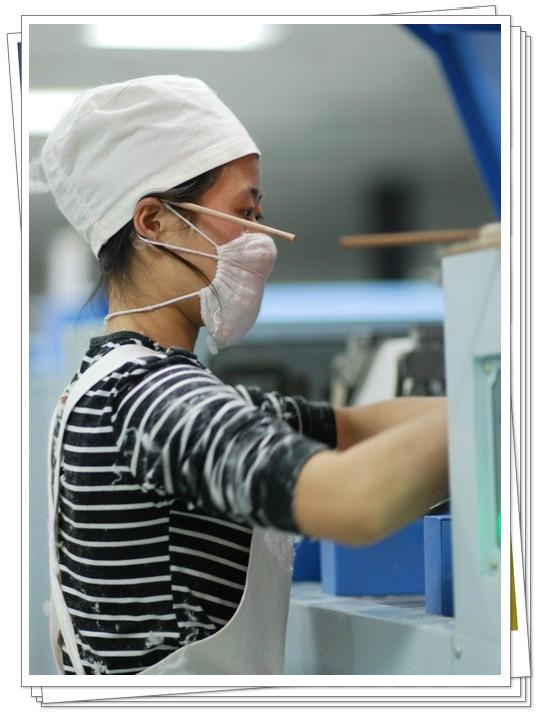OK: (141, 185, 284, 328)
